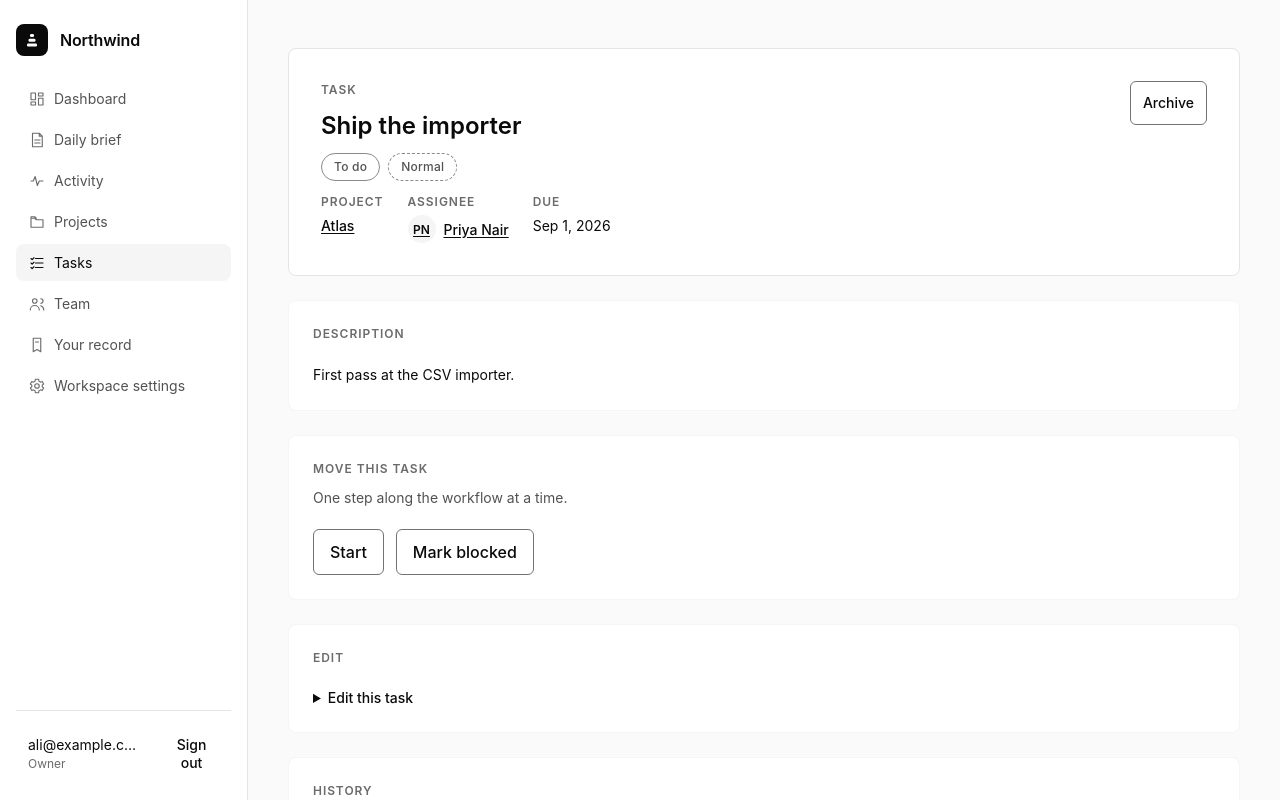
Test: moving a task › moves the task and re-reads it
Expected: the heading "Ship the importer" is shown, left=321, top=111, right=522, bottom=141
Click the button "Start". click: (348, 552)
box: left=313, top=529, right=384, bottom=575
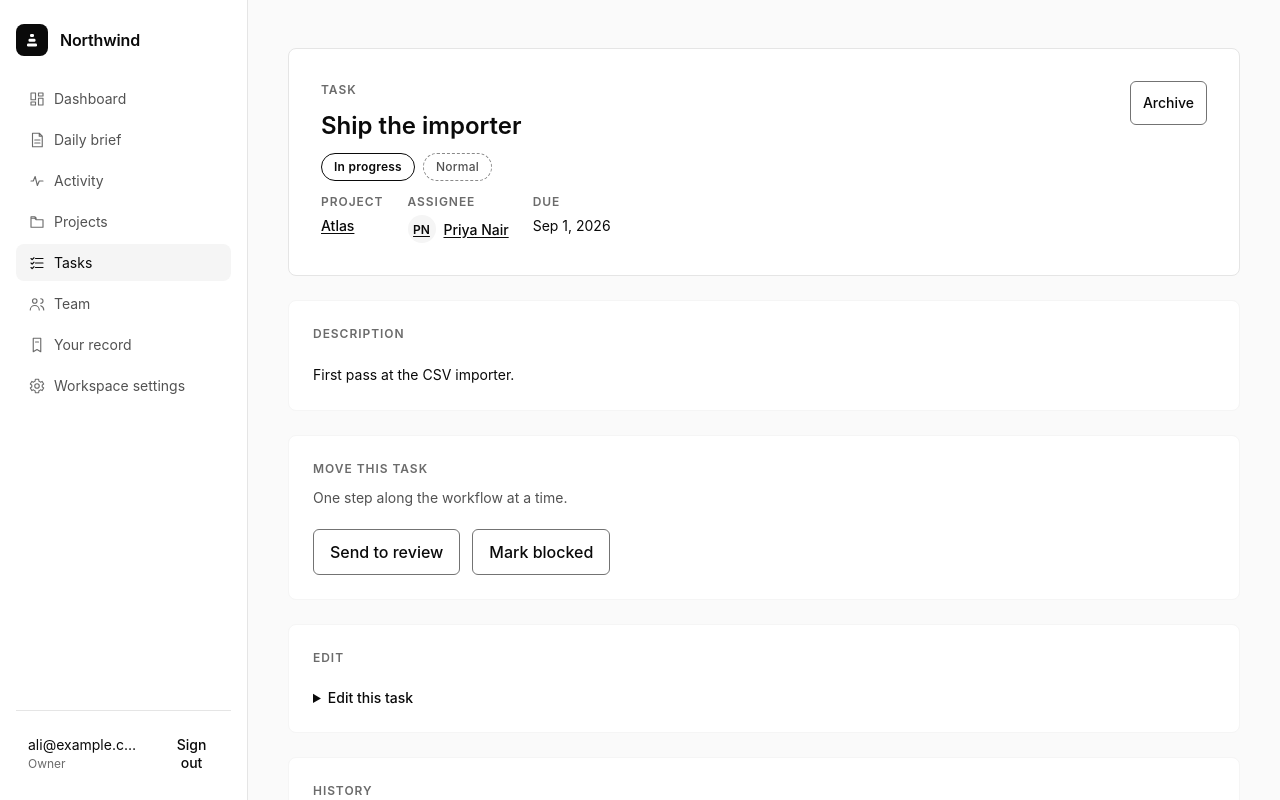
Now the text named "task state: in progress" is shown, box left=321, top=153, right=415, bottom=181
